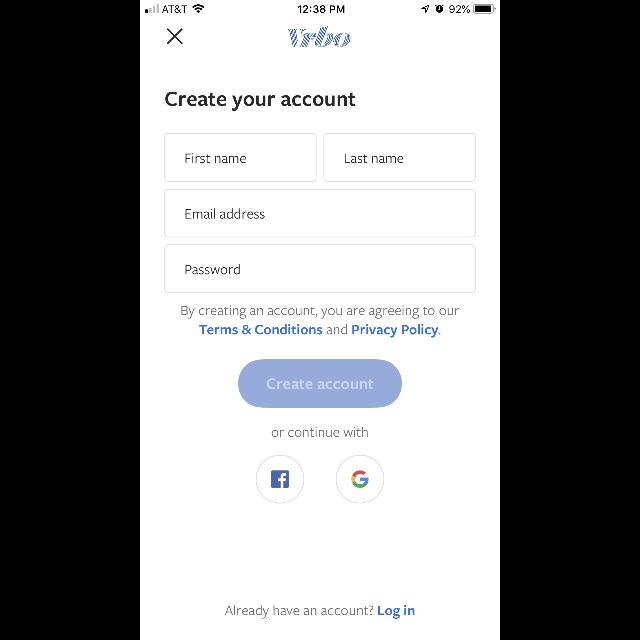icon: (256, 454, 304, 504), (336, 454, 384, 504), (167, 29, 183, 45)
image: (288, 27, 350, 48)
input: (164, 245, 476, 293), (164, 189, 476, 237), (324, 134, 476, 182), (165, 134, 317, 182)
text: (182, 306, 460, 338), (166, 92, 356, 112), (226, 605, 414, 619), (272, 427, 368, 438), (186, 208, 264, 220), (344, 154, 404, 164), (186, 153, 246, 163), (186, 264, 240, 274)
textbutton: (238, 359, 402, 408)
uppertaskbar: (140, 0, 500, 14)
